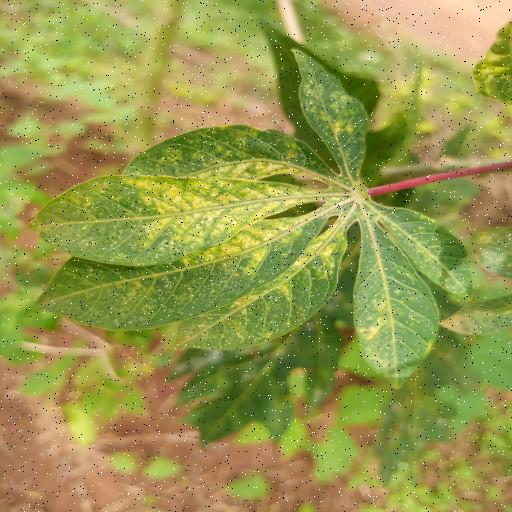Cassava_Mosaic: (28, 40, 504, 388)
